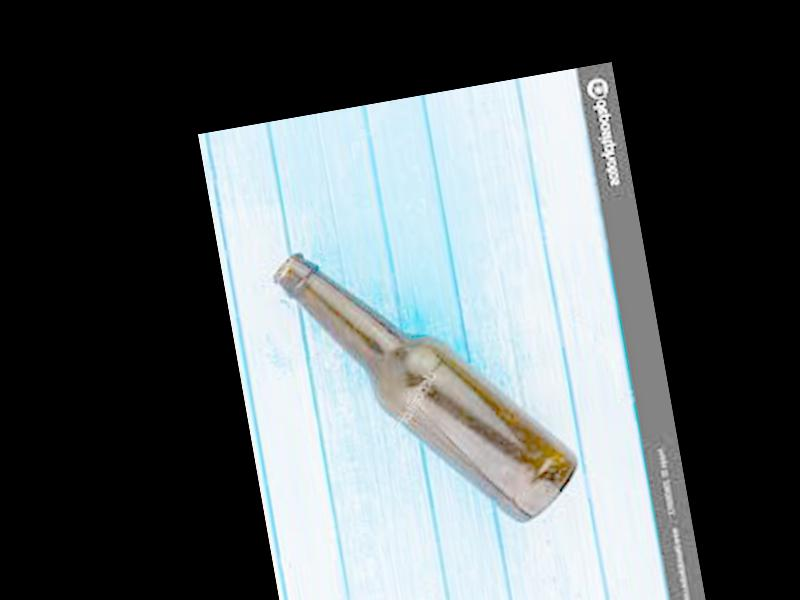Beer: (269, 213, 590, 558)
